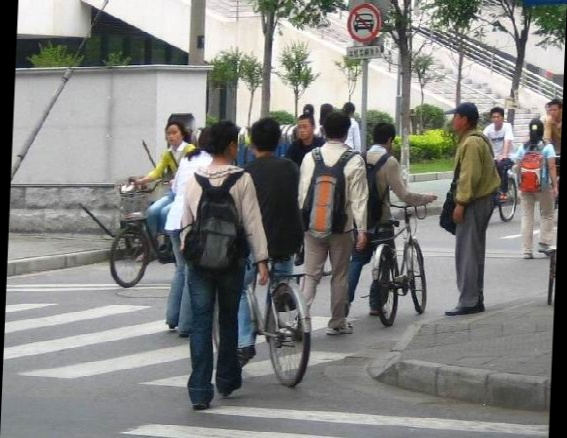person: (181, 116, 255, 411), (435, 98, 507, 322), (301, 114, 369, 340), (363, 120, 440, 251), (509, 115, 563, 261), (145, 115, 193, 263)
